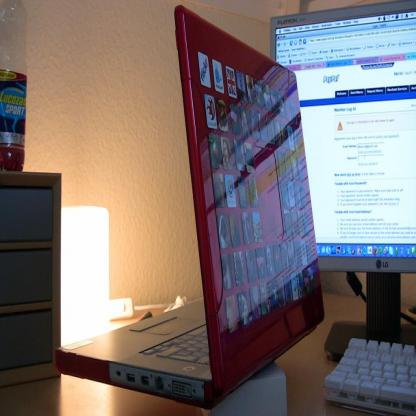board: (56, 0, 325, 409)
